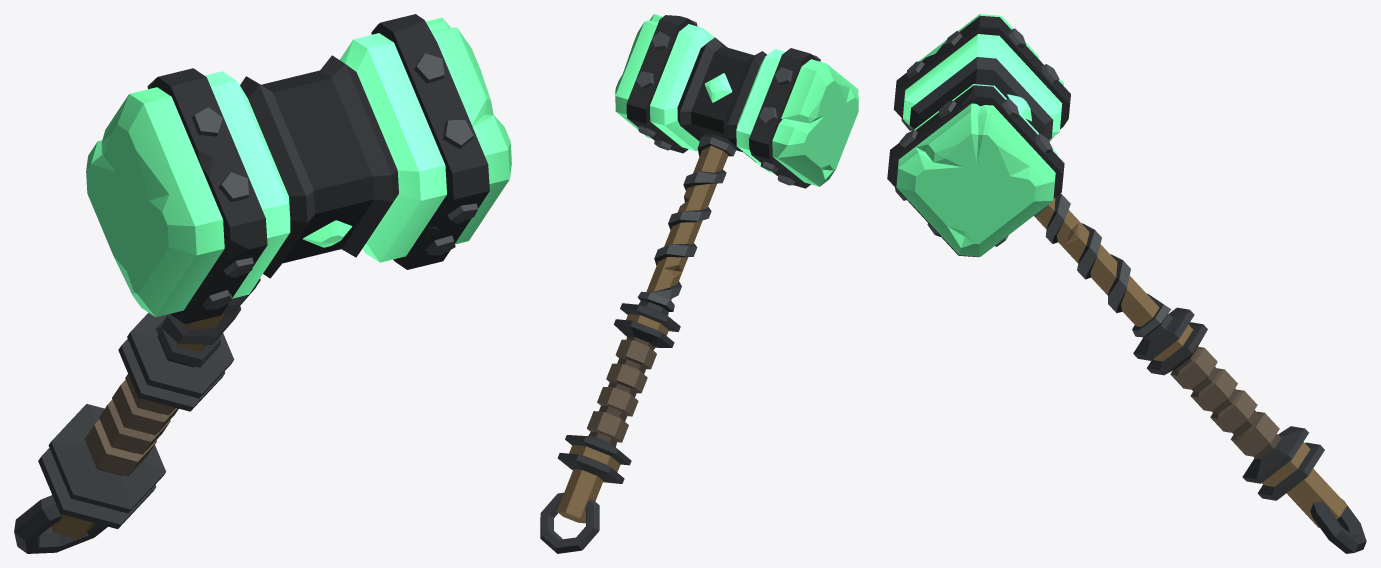
File: df-hammer-01.glb
3 views of the same model, side by side, from view 1: azimuth 30°, elevation 25°; view 2: azimuth 150°, elevation 25°; view 3: azimuth 270°, elevation 25° (orthographic). The views are drawn at different scales.
Parts seen in each view (by area): view 1: df-hammer-01; view 2: df-hammer-01; view 3: df-hammer-01.
Boxes of the visible parts, x1,y1,x2,y2 form: df-hammer-01: (14, 14, 511, 553); df-hammer-01: (540, 14, 858, 553); df-hammer-01: (887, 14, 1366, 553).
Bounding box in the file's own units: 0.4468 × 0.8868 × 0.7936.
1 material, 1 textured.
